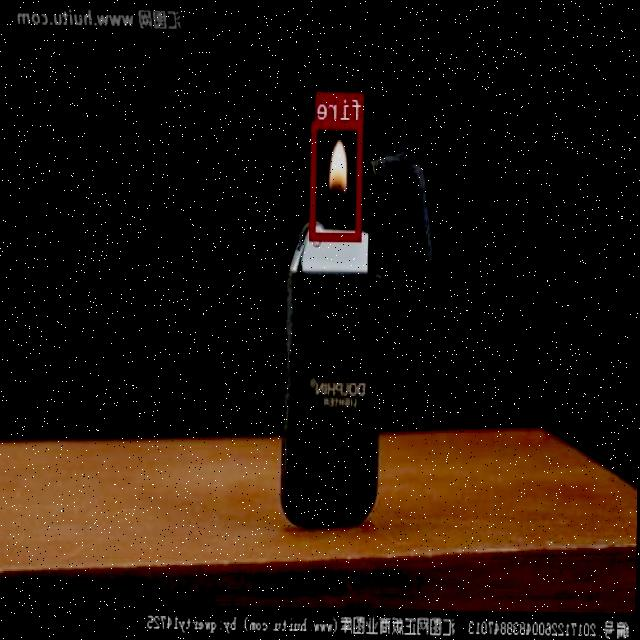fire: (310, 120, 364, 239)
